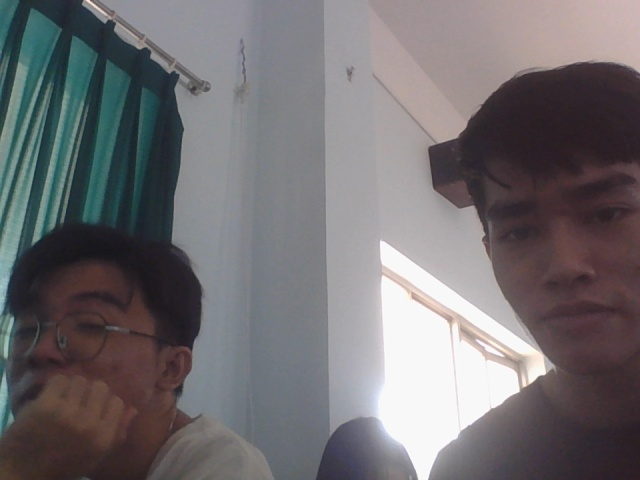real: (0, 201, 187, 466)
